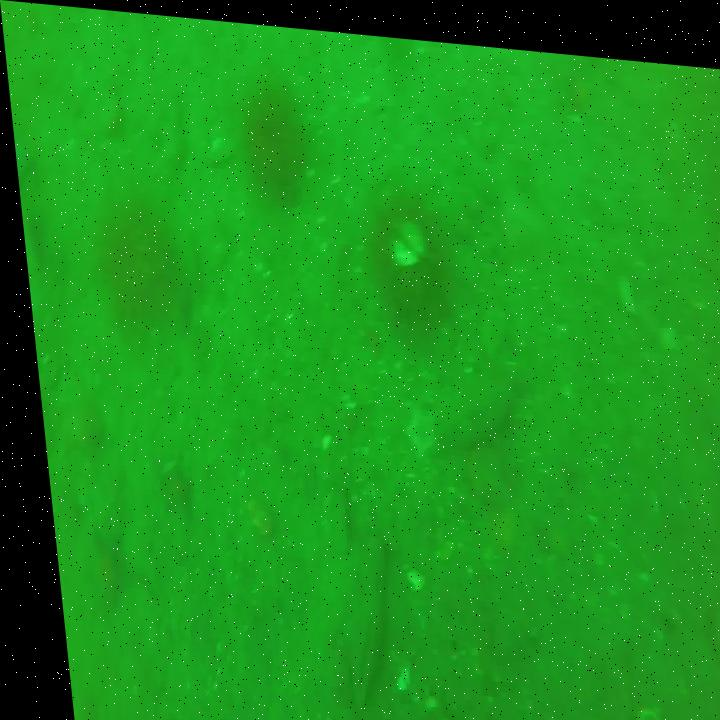echinus: (366, 186, 448, 324), (85, 194, 173, 311), (237, 59, 307, 194)
scallop: (381, 208, 426, 268), (621, 695, 644, 720)
